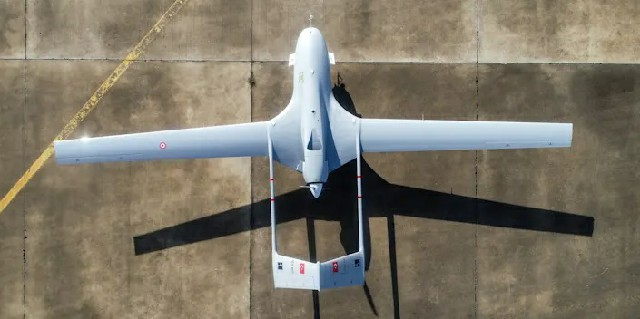maybay_khongnguoilai: (71, 22, 568, 273)
